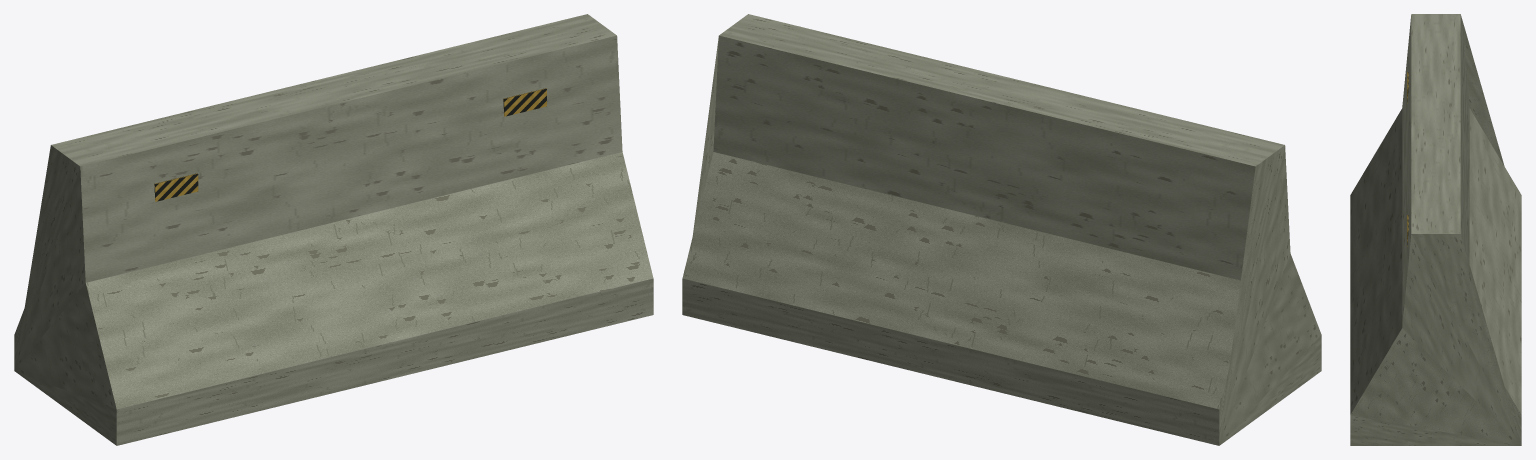
Rendered from ConcreteBarrier.obj.
3 views of the same model, side by side, from view 1: azimuth 30°, elevation 25°; view 2: azimuth 150°, elevation 25°; view 3: azimuth 270°, elevation 25° (orthographic). The views are drawn at different scales.
Visible parts, largest first — view 1: ConcreteBarrier; view 2: ConcreteBarrier; view 3: ConcreteBarrier.
Boxes of the visible parts, box(x1,y1,x2,y2) form: ConcreteBarrier: box(14, 14, 653, 445); ConcreteBarrier: box(682, 14, 1321, 445); ConcreteBarrier: box(1350, 14, 1521, 445).
Bounding box in the file's own units: 2 × 0.9 × 0.66.
Materials: 2 (2 with a texture image).
